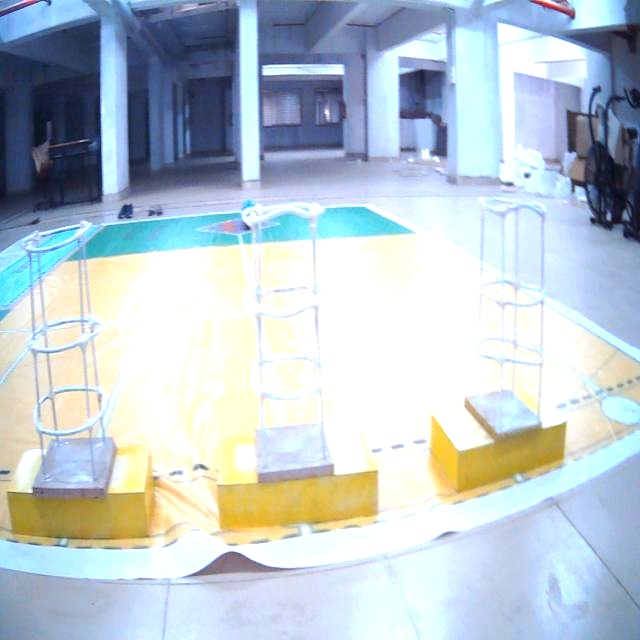silo: (242, 199, 336, 482), (23, 219, 114, 492), (475, 198, 544, 444)
